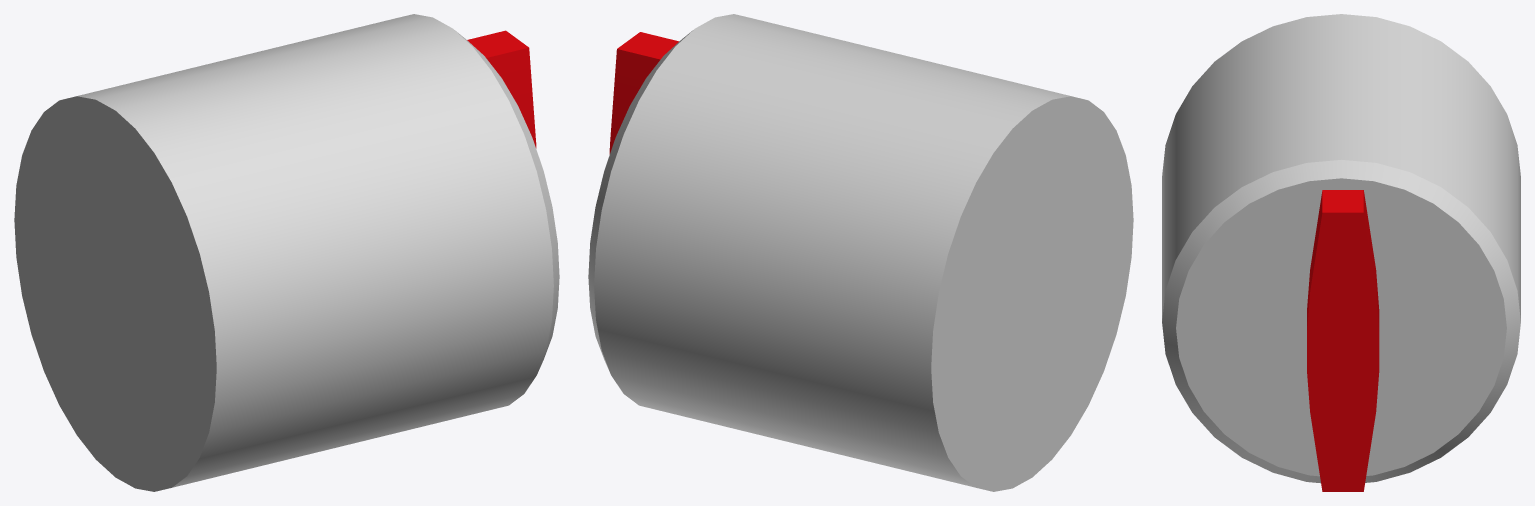
The model's file is Item_005.fbx.
3 views of the same model, side by side, from view 1: azimuth 30°, elevation 25°; view 2: azimuth 150°, elevation 25°; view 3: azimuth 270°, elevation 25° (orthographic). The views are drawn at different scales.
Visible parts, largest first — view 1: Cylinder.002; view 2: Cylinder.002; view 3: Cylinder.002.
Boxes of the visible parts, x1,y1,x2,y2 form: Cylinder.002: (14, 14, 559, 491); Cylinder.002: (588, 14, 1133, 491); Cylinder.002: (1162, 14, 1520, 491).
Bounding box in the file's own units: 72.01 × 62.67 × 62.67.
